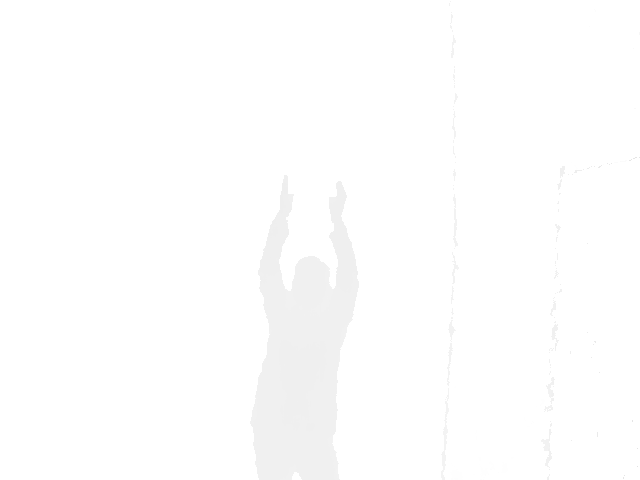hand: (326, 174, 347, 221), (277, 174, 295, 216)
head: (291, 255, 329, 305)
person: (250, 174, 359, 479)
